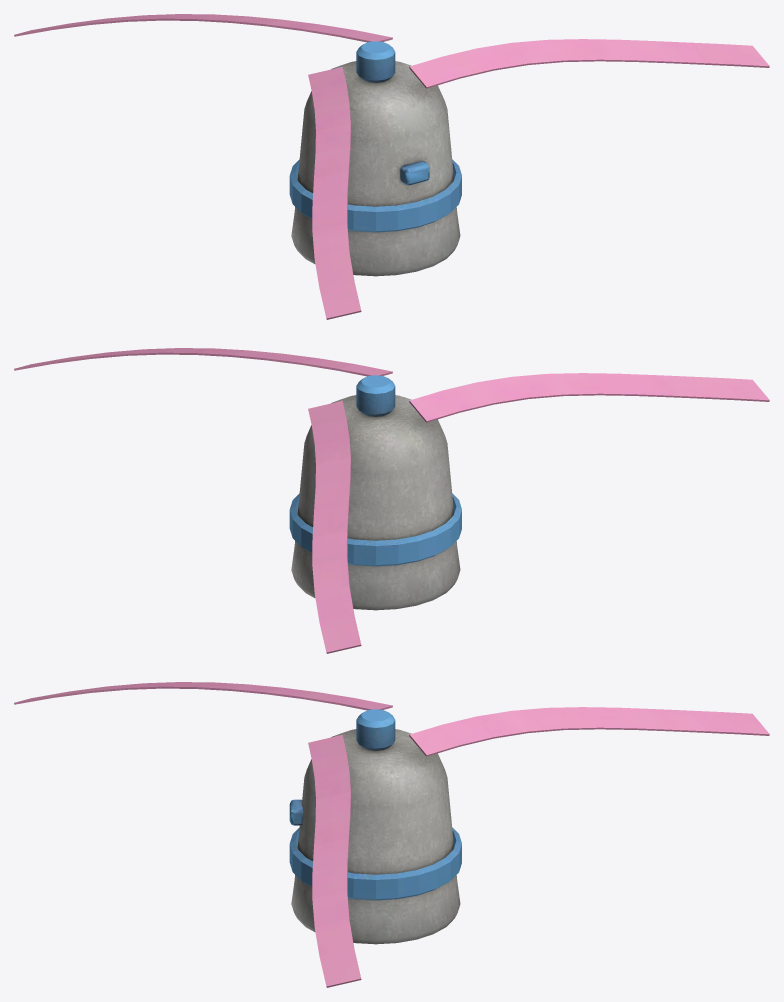
File: fly_fan.glb
The picture shows the model from 3 angles, top to bottom: view 1: azimuth 30°, elevation 25°; view 2: azimuth 150°, elevation 25°; view 3: azimuth 270°, elevation 25°; orthographic projection.
Parts seen in each view (by area): view 1: base; view 2: base; view 3: base.
Part boxes in pixels (<box>): base: <box>14,14,769,319</box>; base: <box>14,348,769,653</box>; base: <box>14,682,769,987</box>.
Bounding box in the file's own units: 0.4197 × 0.132 × 0.4648.
Materials: 1 (1 with a texture image).
